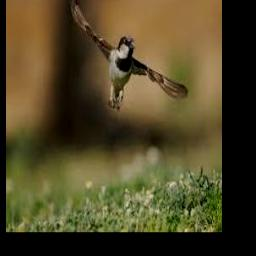Sparrow: (69, 0, 188, 110)
